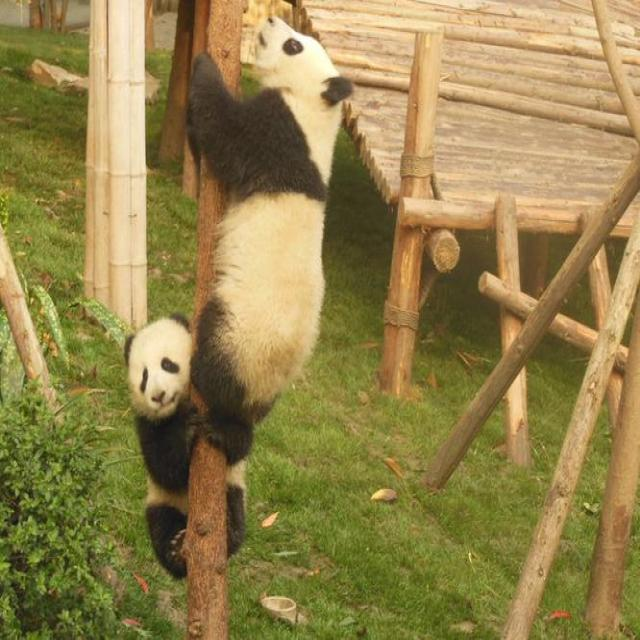panda: (91, 18, 392, 546)
